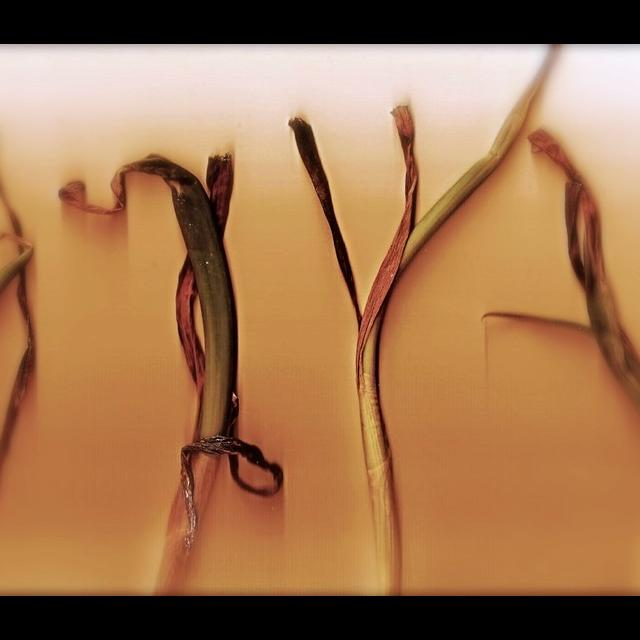green_onion: (290, 45, 559, 594), (58, 154, 284, 594), (530, 129, 640, 407), (0, 178, 35, 477)
